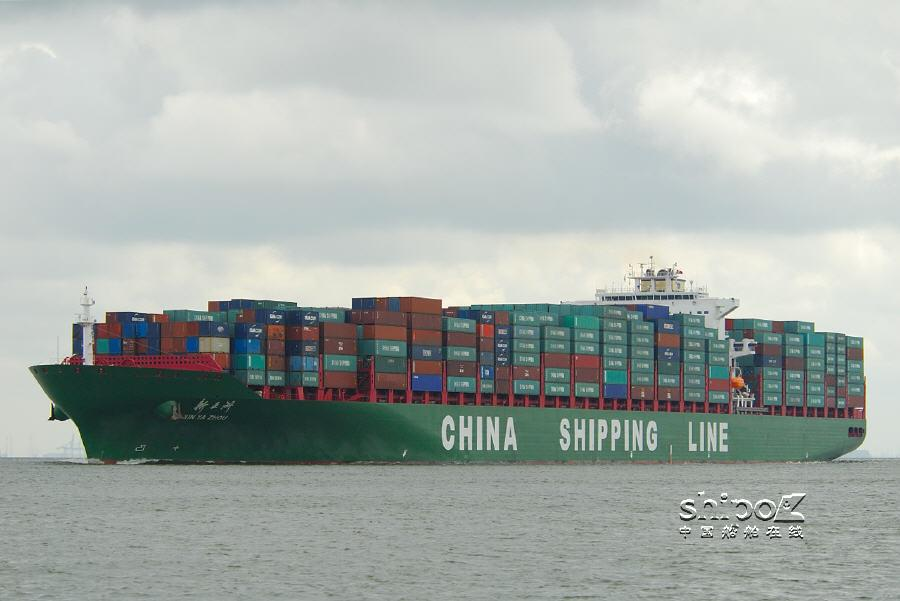Cargoship: (27, 260, 871, 462)
